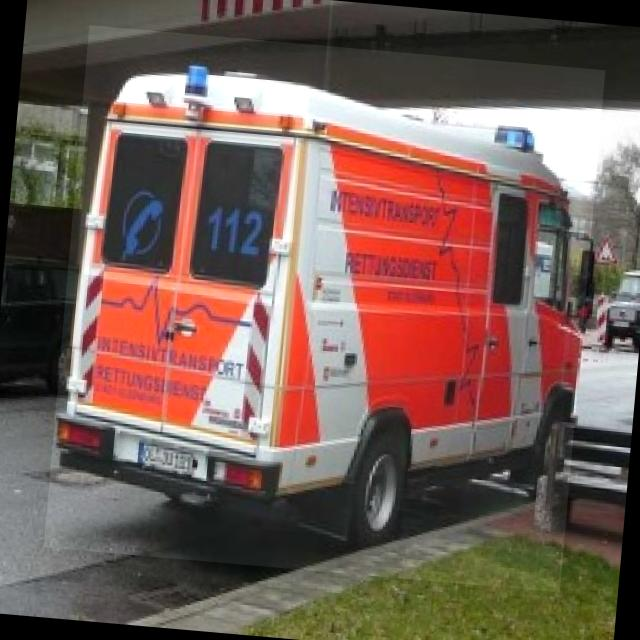ambulance: (43, 25, 605, 592)
